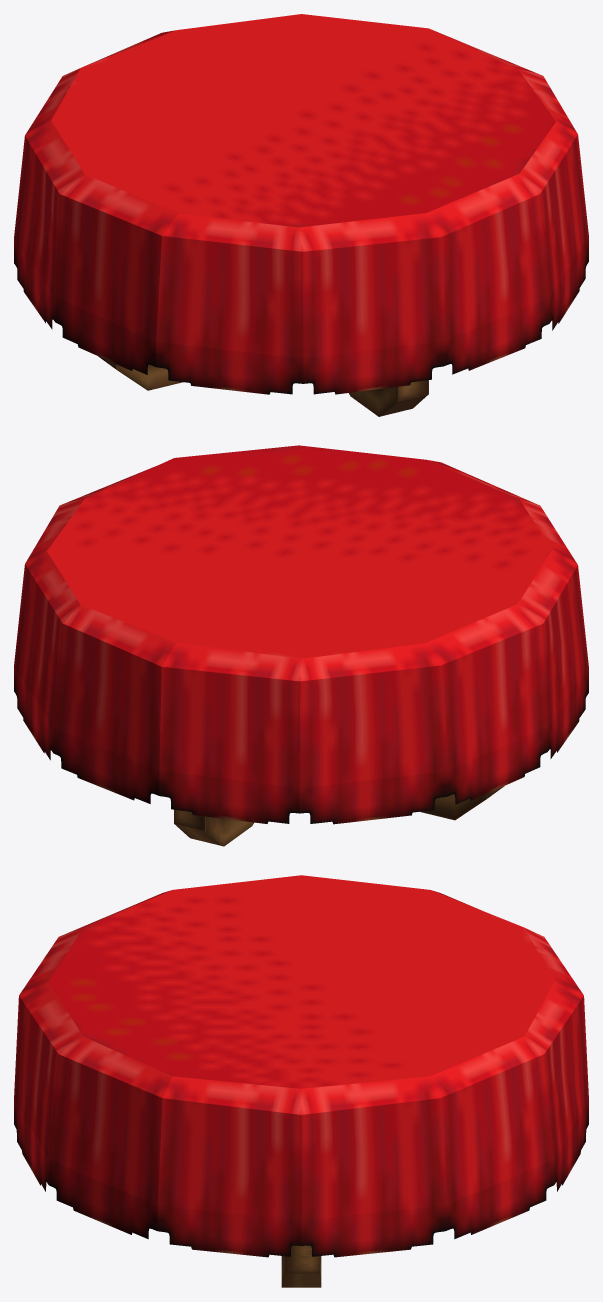
Rendered from Inside_Poly_Table_05.obj.
3 views of the same model, one above another, from view 1: azimuth 30°, elevation 25°; view 2: azimuth 150°, elevation 25°; view 3: azimuth 270°, elevation 25° (orthographic).
Parts seen in each view (by area): view 1: Cube.001, Cube.002; view 2: Cube.001, Cube.002; view 3: Cube.001, Cube.002.
Part boxes in pixels (x1=…): Cube.001: x1=14, y1=14, x2=588, y2=394; Cube.002: x1=98, y1=356, x2=428, y2=416; Cube.001: x1=14, y1=445, x2=588, y2=824; Cube.002: x1=174, y1=786, x2=504, y2=846; Cube.001: x1=14, y1=875, x2=588, y2=1257; Cube.002: x1=281, y1=1245, x2=321, y2=1287.
Size of the model in its own units: 1.16 by 0.5003 by 1.16.
1 material, 1 textured.
